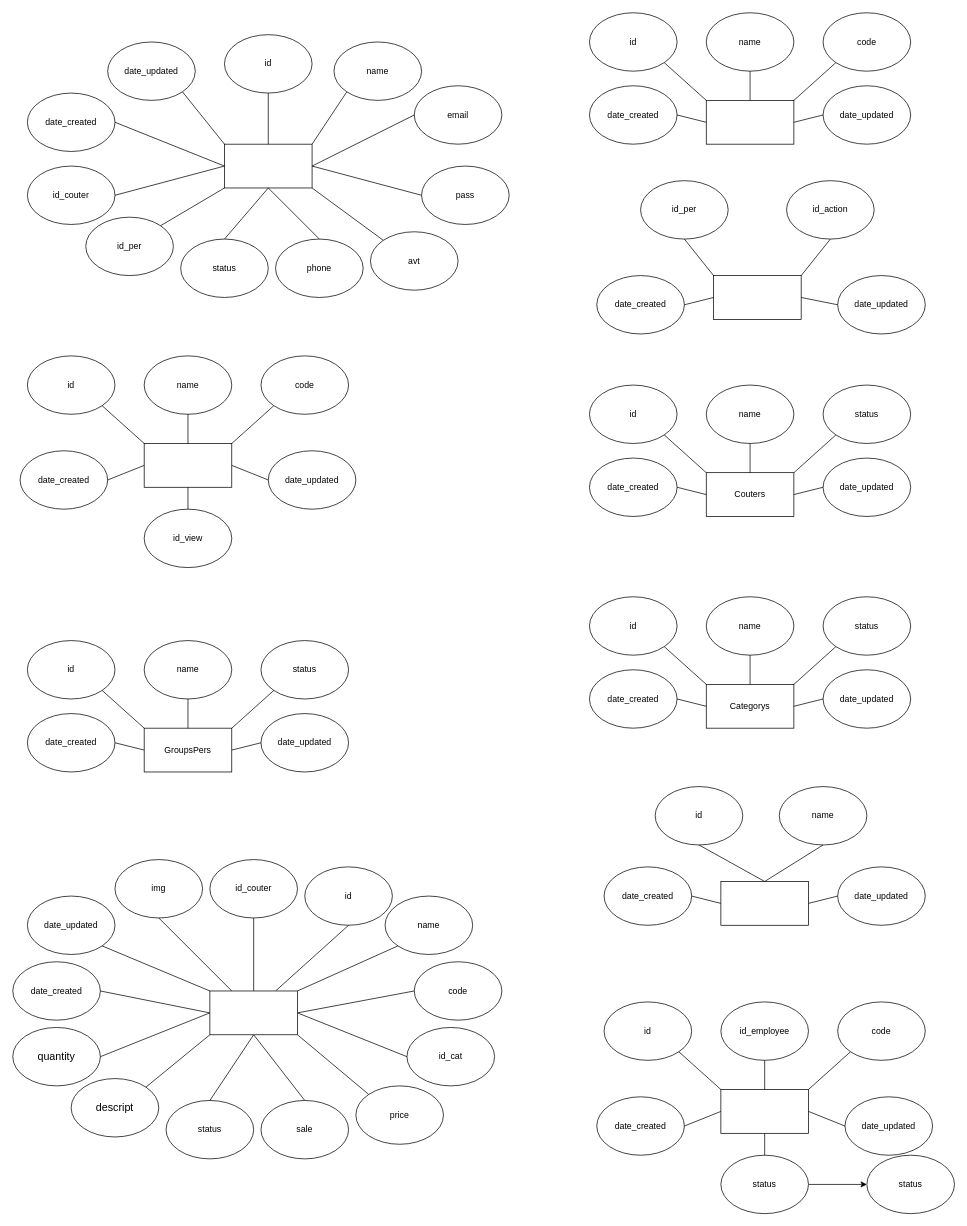
Image size: 967x1226. Some labels were removed from this diagram. Each missing label, with the centre of its shape:
"Actions" belongs at pixel 187 465.
"Employers" belongs at pixel 268 165.
"Orders" belongs at pixel 764 1111.
"Per_action" belongs at pixel 757 297.
"Products" belongs at pixel 253 1012.
"Units" belongs at pixel 764 903.
"Views" belongs at pixel 750 122.
